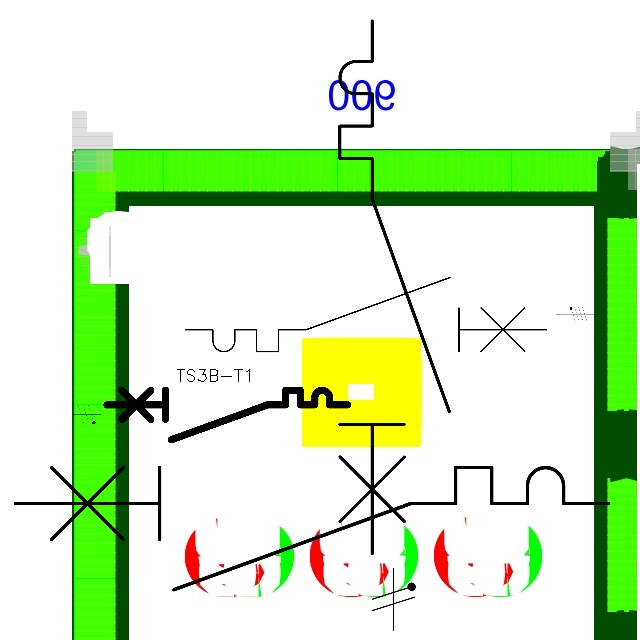interruptor_termomagnetico: (0, 452, 624, 604), (326, 7, 463, 568), (176, 268, 556, 361), (100, 384, 353, 446)
